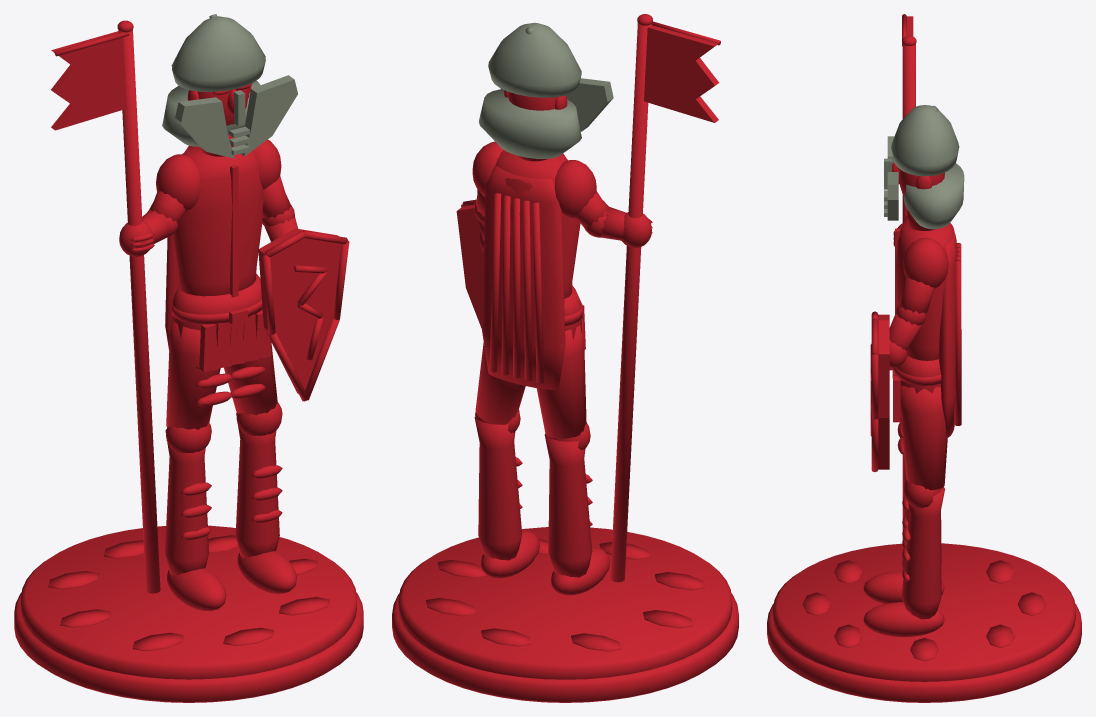
The model's file is knight-level-3-active.fbx.
3 renders of one model, left to right at view 1: azimuth 30°, elevation 25°; view 2: azimuth 150°, elevation 25°; view 3: azimuth 270°, elevation 25°, orthographic. The views are drawn at different scales.
Visible parts, largest first — view 1: Knight_Level_3_Helmet_Sculpt; view 2: Knight_Level_3_Helmet_Sculpt; view 3: Knight_Level_3_Helmet_Sculpt.
Boxes of the visible parts, x1,y1,x2,y2 form: Knight_Level_3_Helmet_Sculpt: (14,14,363,702); Knight_Level_3_Helmet_Sculpt: (392,14,738,702); Knight_Level_3_Helmet_Sculpt: (767,14,1081,702).
Size of the model in its own units: 0.012 by 0.024 by 0.012.
